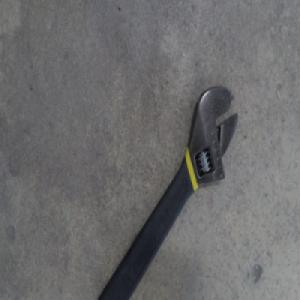AdjustableWrench: (100, 85, 240, 299)
